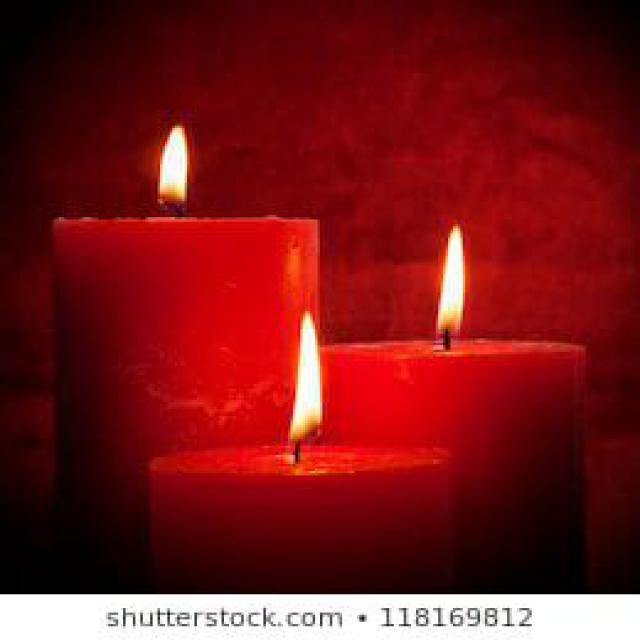Fire: (288, 311, 325, 448), (436, 224, 466, 343), (158, 124, 190, 207)
